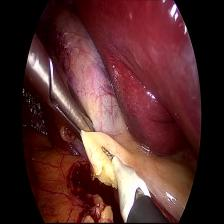Grasper: (23, 30, 96, 144)
Hook: (100, 144, 164, 224)
